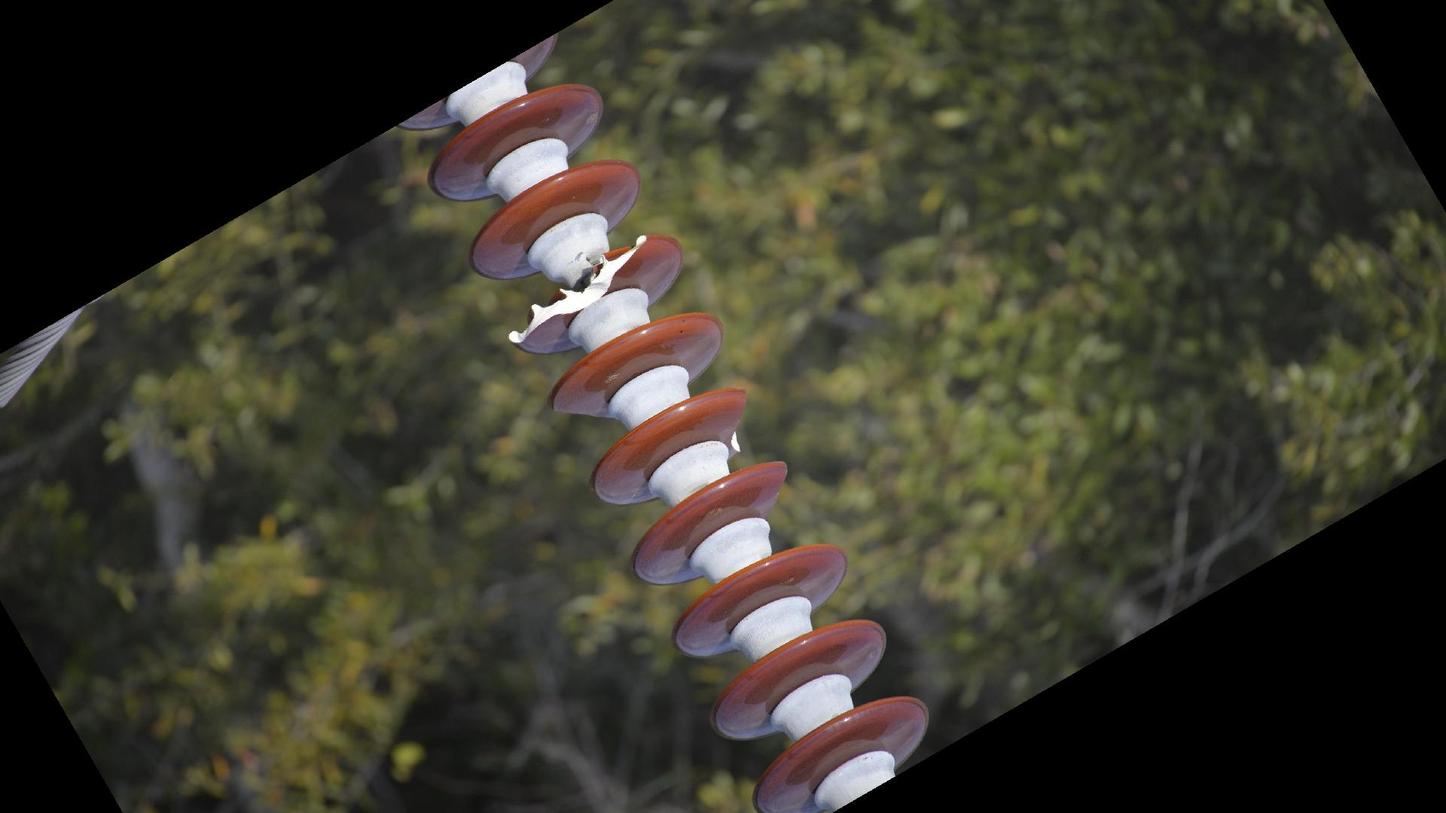insulator: (387, 29, 935, 813)
insulator_breakage: (503, 228, 653, 351), (725, 385, 750, 460)
